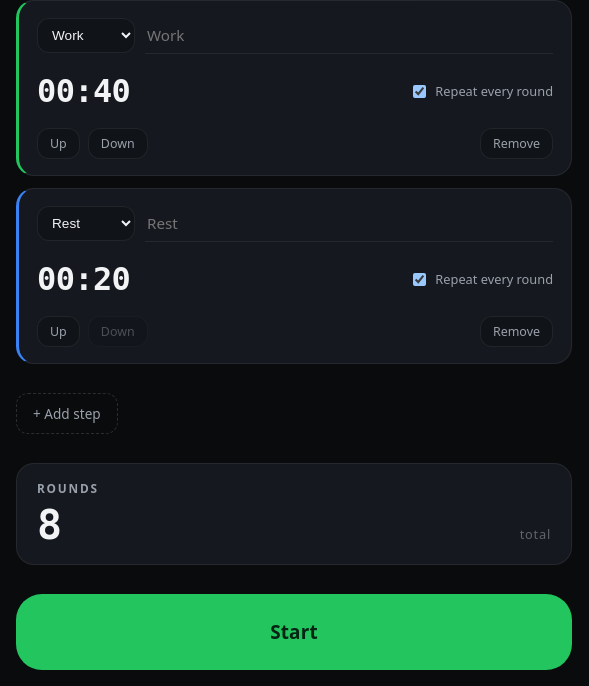
SetupScreen › a custom step needs a non-empty label even once its duration is valid
(page scrolled)
Click the button with class "add-step" at (67, 414), box [16, 393, 118, 434]
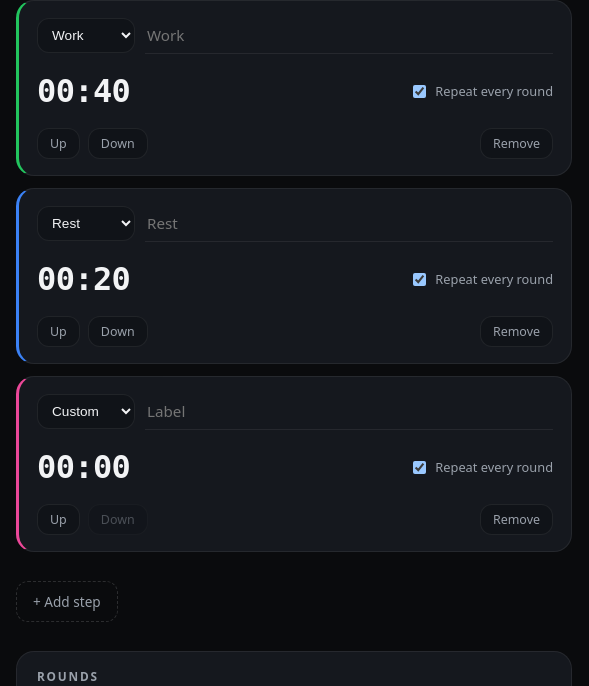
Press 1 in the 3rd field with class "duration-input", box [37, 440, 399, 494]
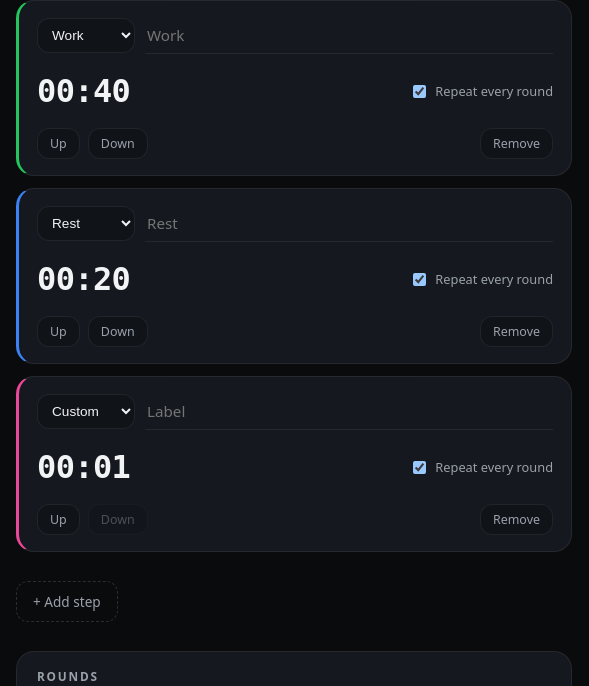
Press 0 in the 3rd field with class "duration-input", box [37, 440, 399, 494]
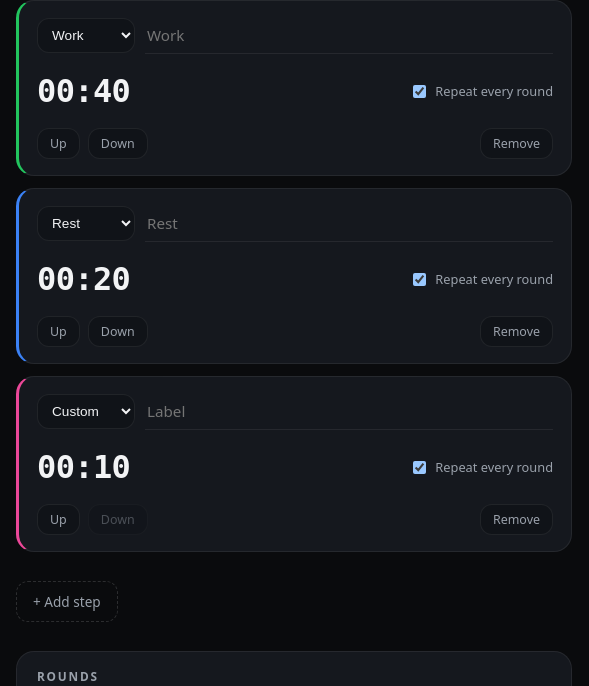
Type "Stretch" into the field with class "step__label" showing "Label" at (349, 412), box [145, 393, 553, 430]
(page scrolled)
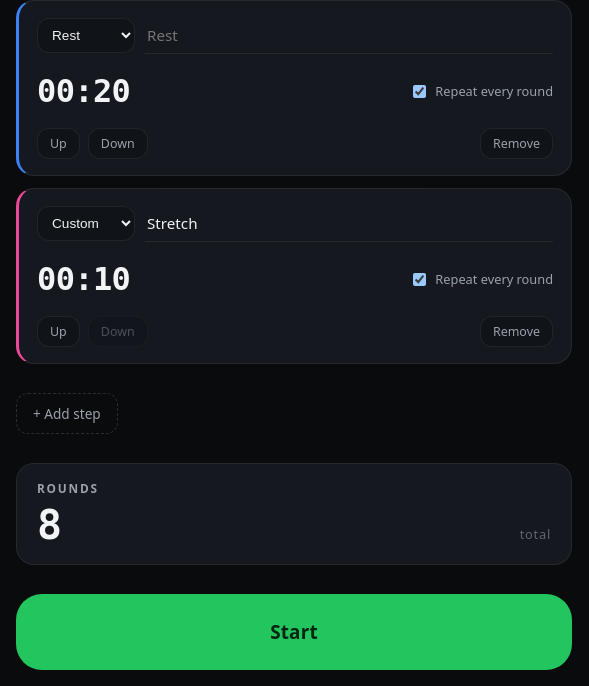
Check: the button with class "start" is enabled, box [16, 594, 572, 670]
